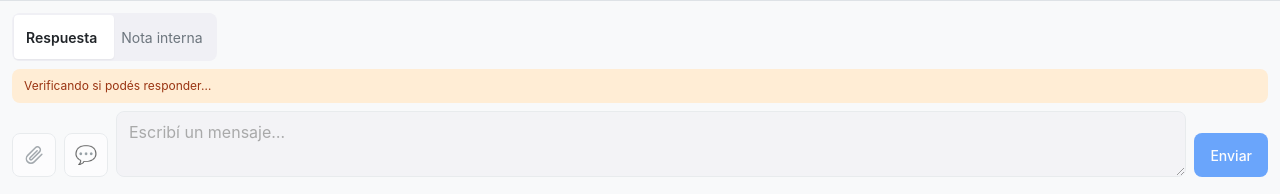
Scenario: Composer — avisos de ventana solo en modo reply (fase D, design §3.2) › modo nota + isDetailLoading + isDetailError + canReply:false → NINGÚN aviso de ventana (irrelevante para una nota)
This screenshot has width=1280, height=194.
Click the radio button labelled "Nota interna". click: (162, 37)
box: [121,28,203,46]
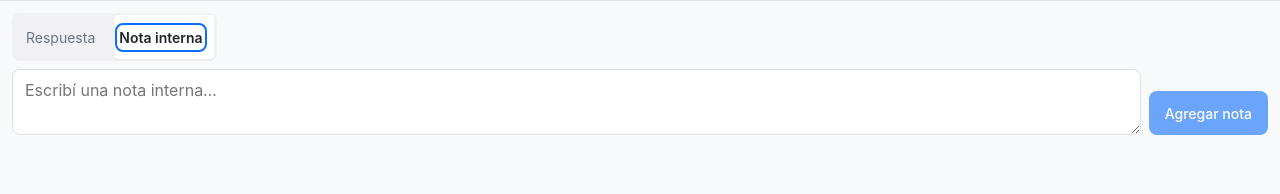
Expected: the text "Verificando si podés responder…" is gone
